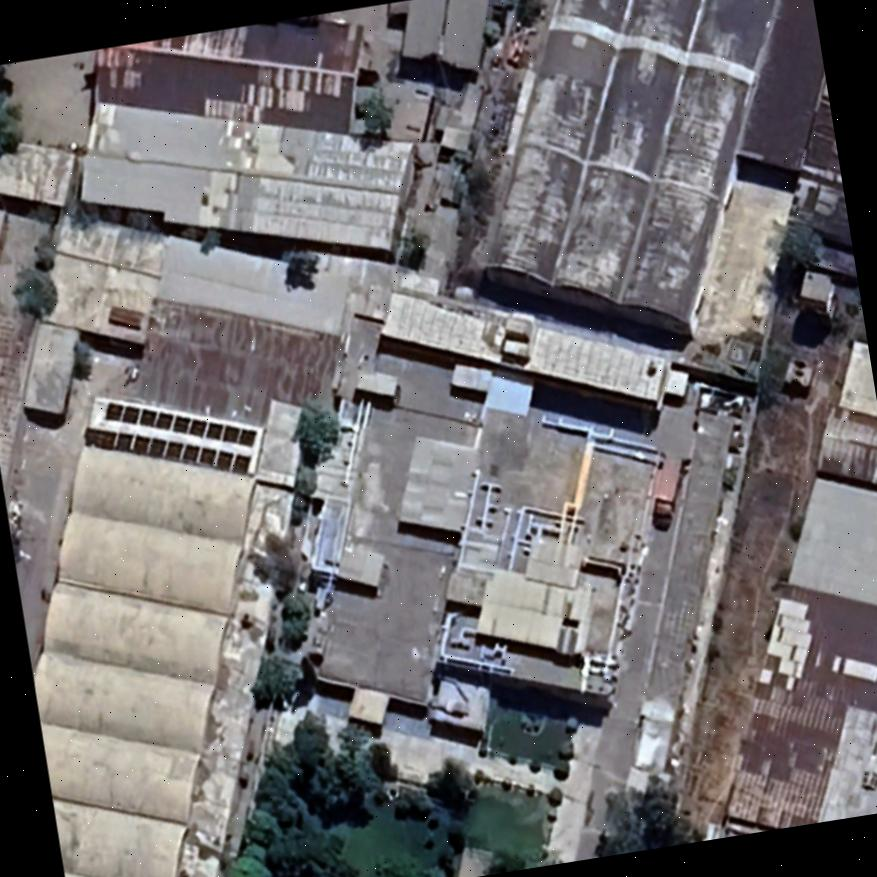Solarpanel: (82, 425, 251, 475), (102, 402, 257, 447)
